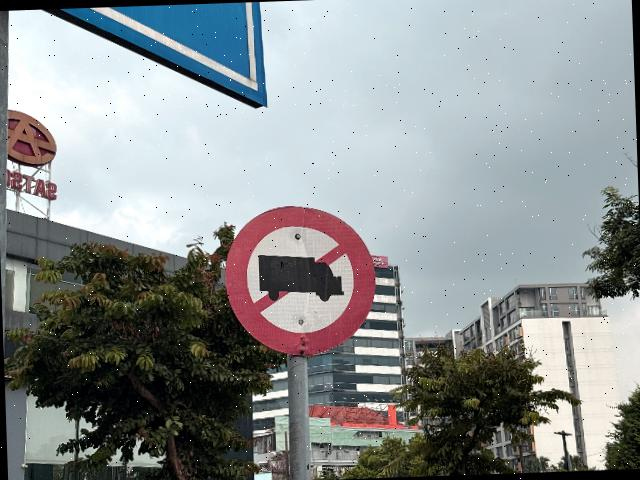cam-xe-tai: (222, 204, 378, 358)
